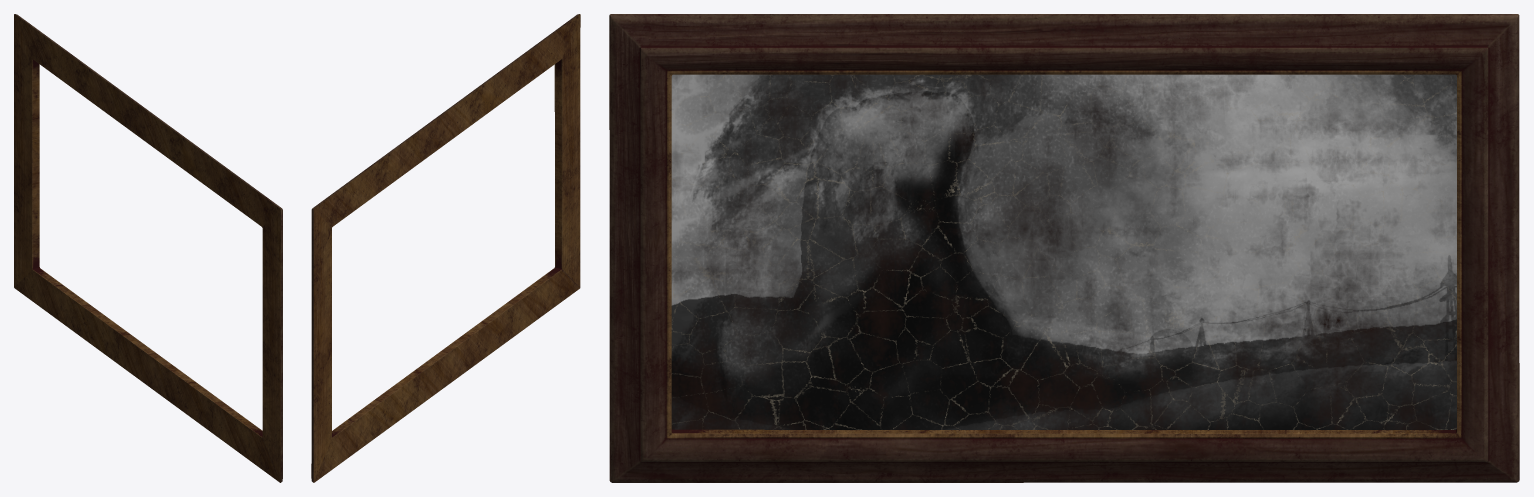
3 views of the same model, side by side, from view 1: azimuth 30°, elevation 25°; view 2: azimuth 150°, elevation 25°; view 3: azimuth 270°, elevation 25° (orthographic). The views are drawn at different scales.
Parts seen in each view (by area): view 1: Frame; view 2: Frame; view 3: Image, Frame.
Boxes of the visible parts, box(x1,y1,x2,y2) form: Frame: box(14, 14, 282, 482); Frame: box(311, 14, 580, 482); Image: box(671, 74, 1456, 429); Frame: box(609, 14, 1519, 482).
Bounding box in the file's own units: 0.0129 × 0.3416 × 0.6019.
Materials: 2 (2 with a texture image).
